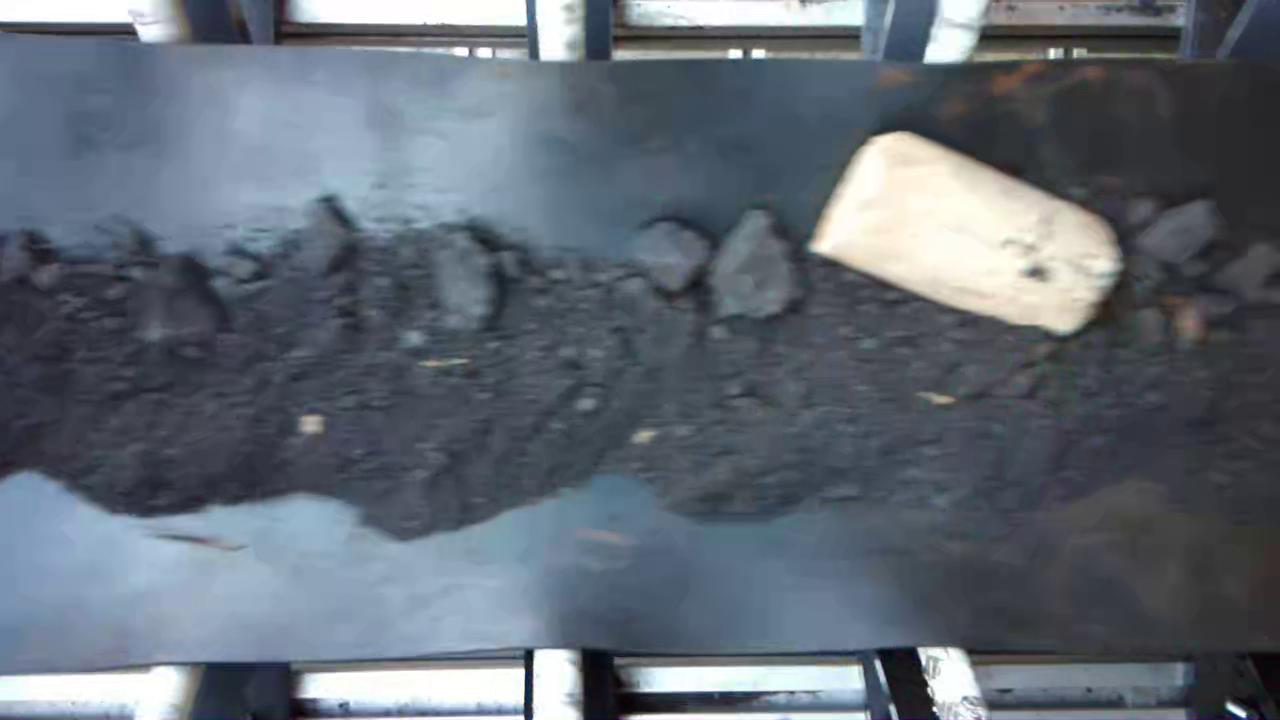conveyor: (10, 71, 1279, 641)
